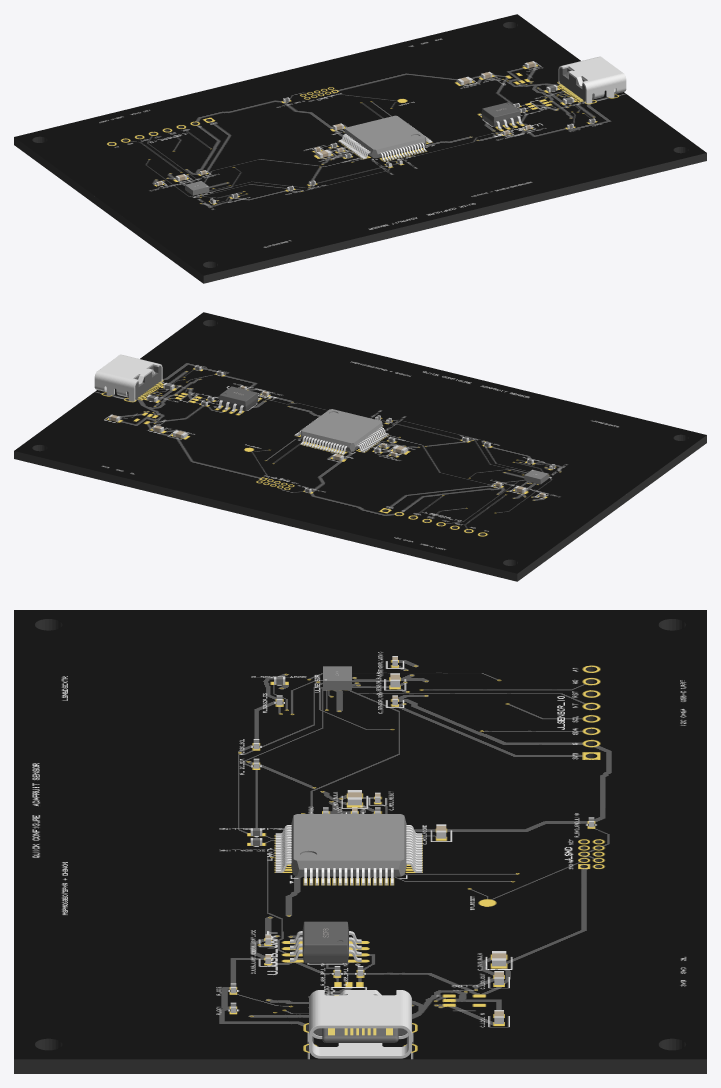
The picture shows the model from 3 angles, top to bottom: view 1: azimuth 30°, elevation 25°; view 2: azimuth 150°, elevation 25°; view 3: azimuth 270°, elevation 25°; orthographic projection. The views are drawn at different scales.
Visible parts, largest first — view 1: Box0, U_MAIN, J_USB, U_USB_UART; view 2: Box0, U_MAIN, J_USB, U_USB_UART; view 3: Box0, U_MAIN, J_USB, U_USB_UART, U_SENSOR.
Boxes of the visible parts, x1,y1,x2,y2 form: Box0: [14, 14, 706, 283]; U_MAIN: [338, 115, 432, 161]; J_USB: [558, 56, 626, 103]; U_USB_UART: [480, 102, 522, 129]; Box0: [14, 312, 706, 581]; U_MAIN: [294, 409, 388, 454]; J_USB: [94, 354, 162, 401]; U_USB_UART: [217, 386, 259, 413]; Box0: [14, 610, 706, 1073]; U_MAIN: [275, 814, 422, 885]; J_USB: [309, 990, 411, 1058]; U_USB_UART: [290, 921, 361, 963]; U_SENSOR: [323, 666, 351, 690].
Size of the model in its own units: 92.04 by 4.65 by 60.
19 materials, 2 textured.
